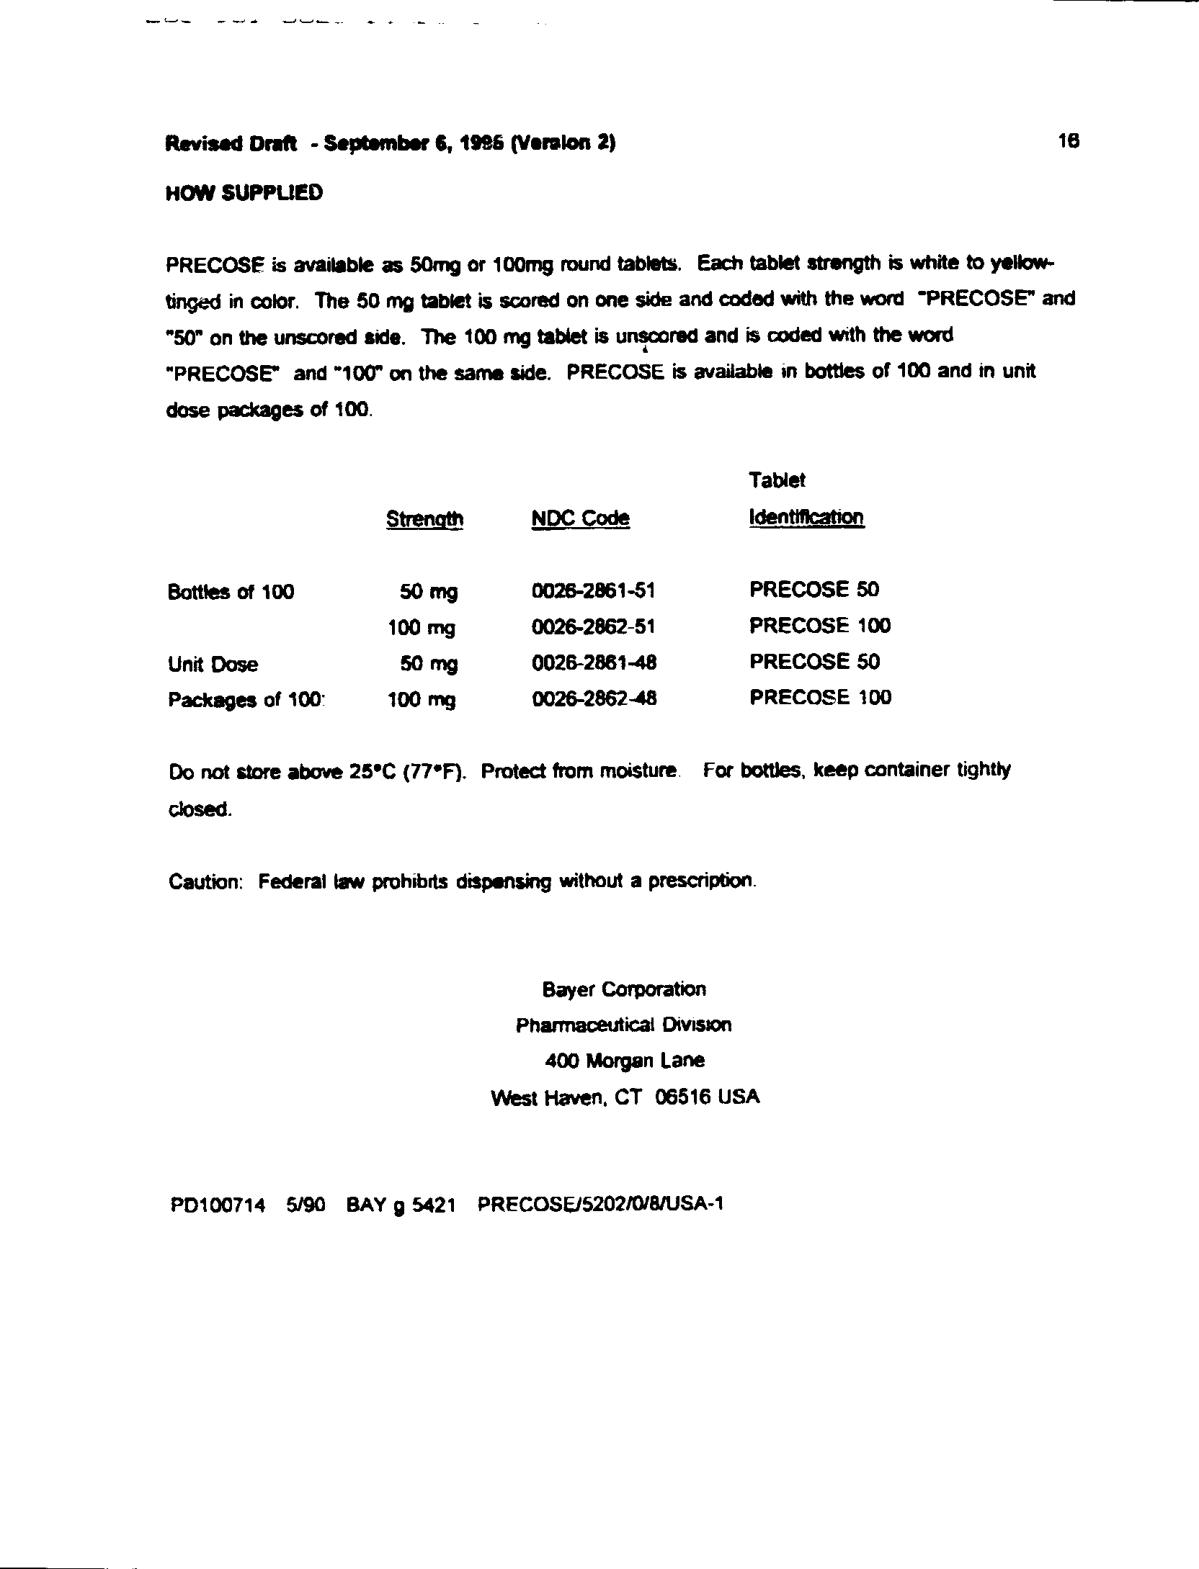nolines: (166, 470, 895, 709)
